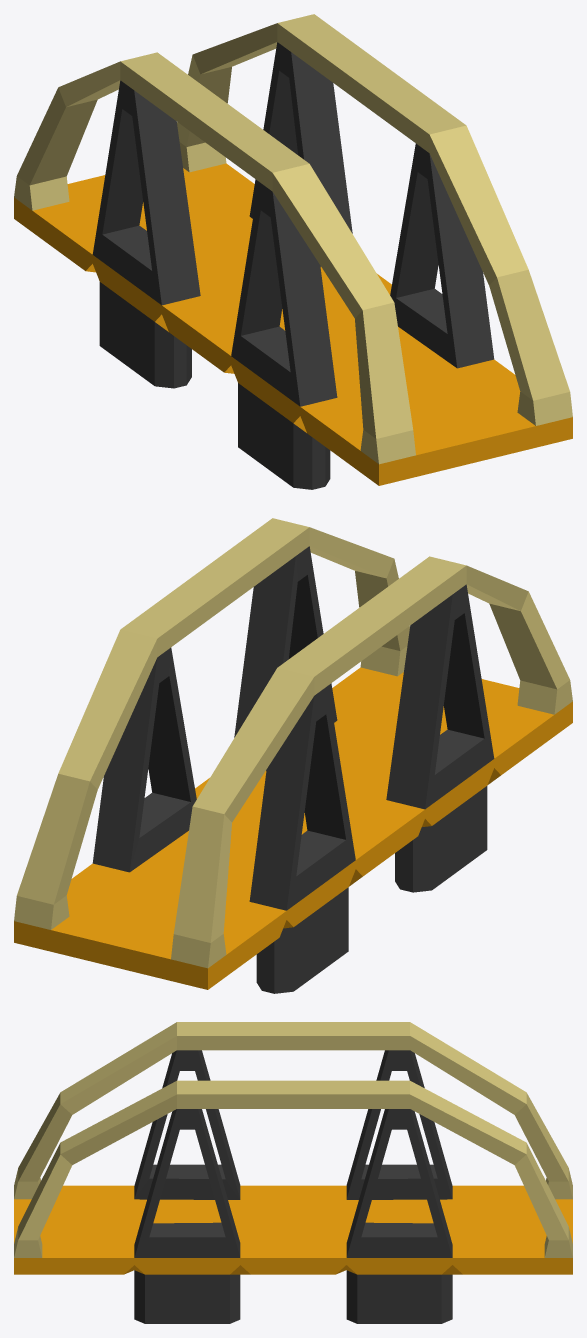
The model's file is Bridge.fbx.
3 views of the same model, one above another, from view 1: azimuth 30°, elevation 25°; view 2: azimuth 150°, elevation 25°; view 3: azimuth 270°, elevation 25° (orthographic). The views are drawn at different scales.
Visible parts, largest first — view 1: Cube; view 2: Cube; view 3: Cube.
Boxes of the visible parts, x1,y1,x2,y2 form: Cube: (14,14,572,489); Cube: (14,518,572,993); Cube: (14,1022,572,1323).
Size of the model in its own units: 108 by 159 by 352.
